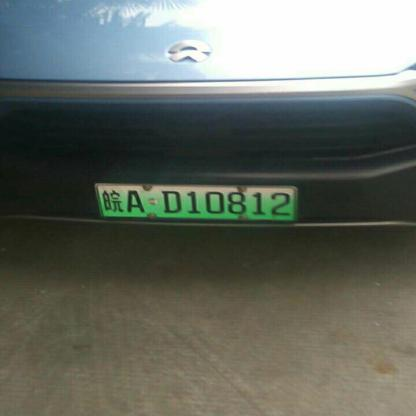lp: (96, 185, 295, 221)
